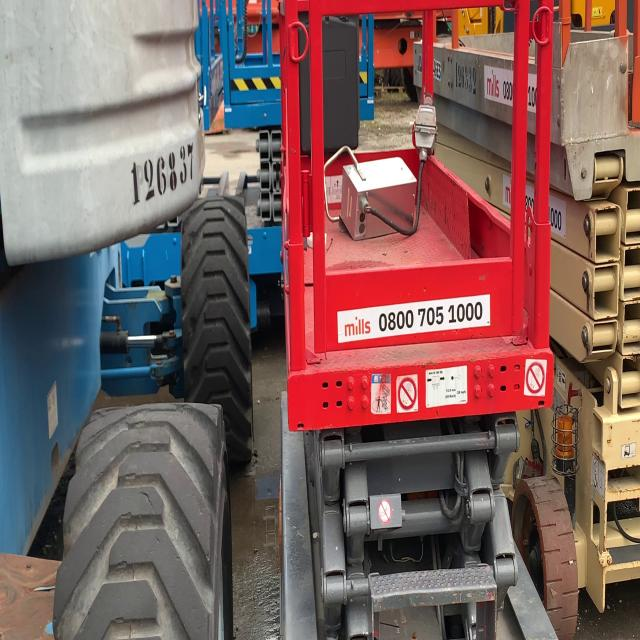Adesivo Longo: (335, 292, 492, 346)
